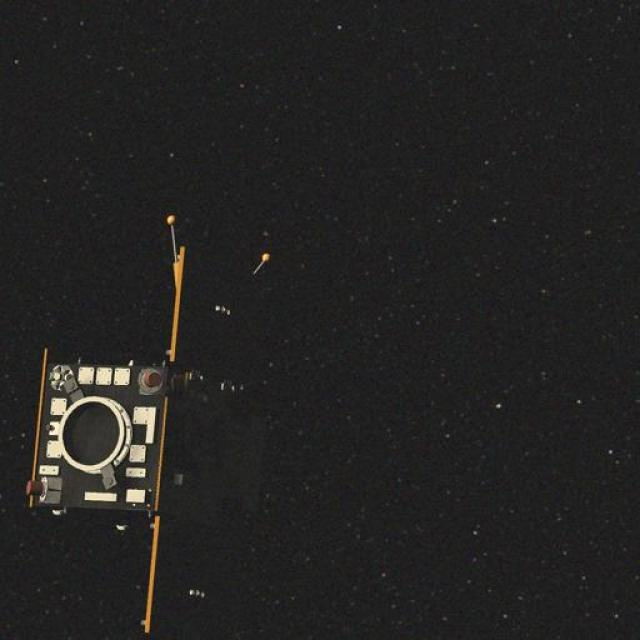proba_2: (16, 216, 232, 640)
